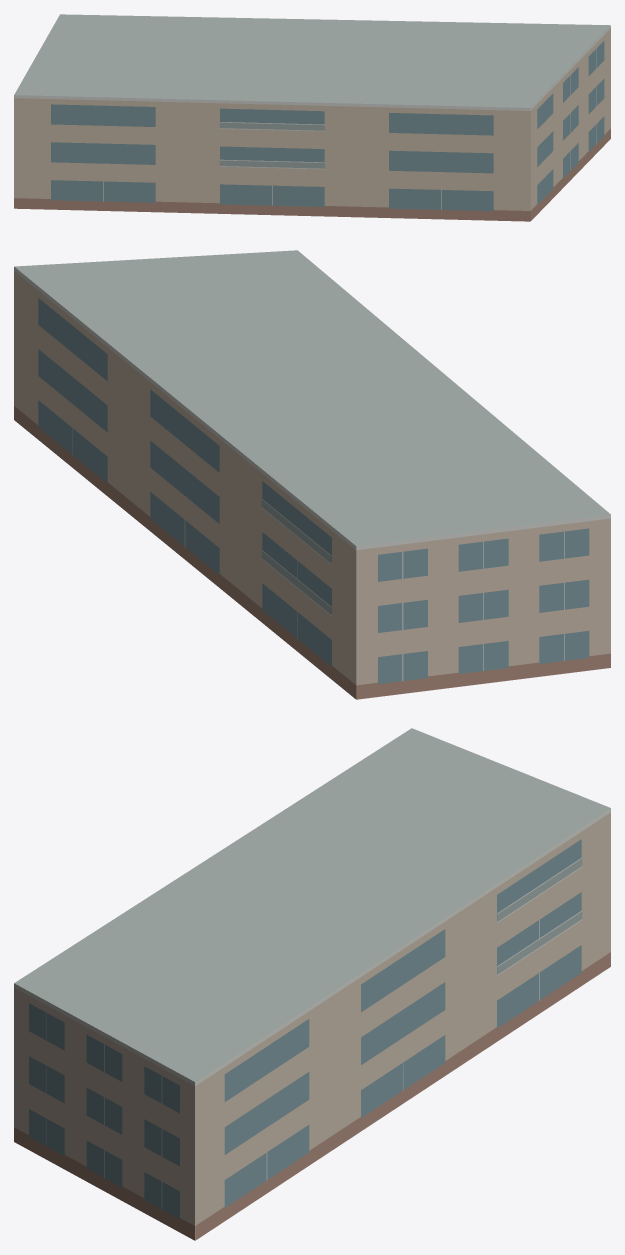
The model's file is survey-upis-32473843.glb.
3 renders of one model, top to bottom at view 1: azimuth 30°, elevation 25°; view 2: azimuth 150°, elevation 25°; view 3: azimuth 270°, elevation 25°, orthographic. The views are drawn at different scales.
Parts seen in each view (by area): view 1: survey-upis-32473843.tmp; view 2: survey-upis-32473843.tmp; view 3: survey-upis-32473843.tmp.
Part boxes in pixels (x1,y1,x2,y2): survey-upis-32473843.tmp: [14, 14, 610, 221]; survey-upis-32473843.tmp: [14, 250, 610, 699]; survey-upis-32473843.tmp: [14, 728, 610, 1240].
Bounding box in the file's own units: 43.78 × 9.15 × 31.2.
